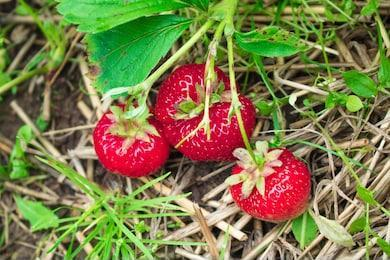Fresa: (153, 55, 263, 167), (224, 137, 320, 227), (92, 92, 172, 183)
